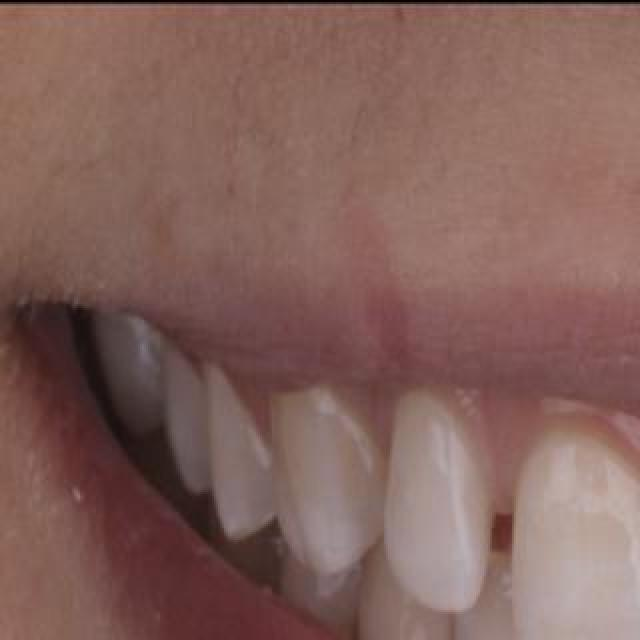spacing: (455, 450, 539, 608), (624, 512, 640, 640)
